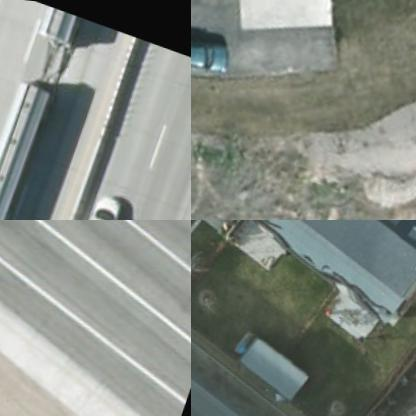car: (191, 19, 239, 85), (82, 184, 126, 219)
truck: (0, 67, 62, 219)
